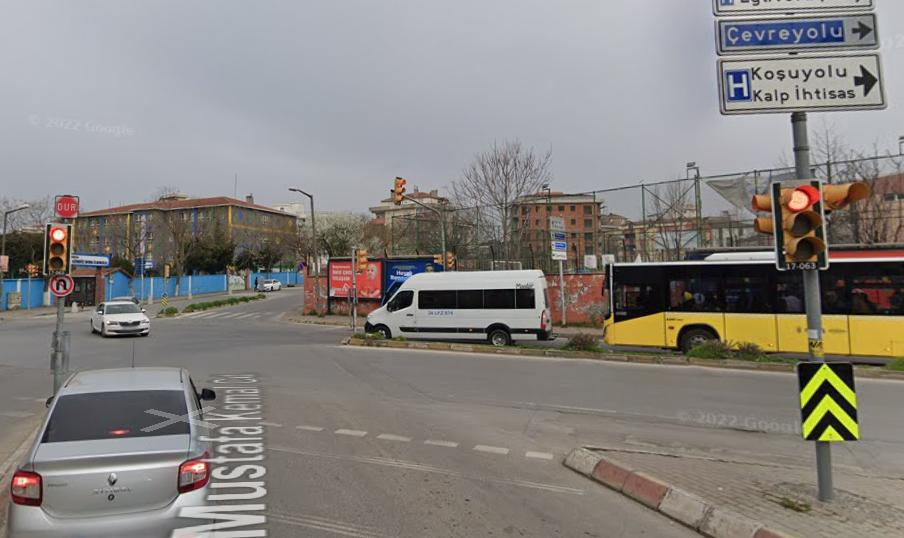redlight: (777, 176, 831, 267), (47, 223, 65, 276)
stop: (55, 191, 80, 219)
